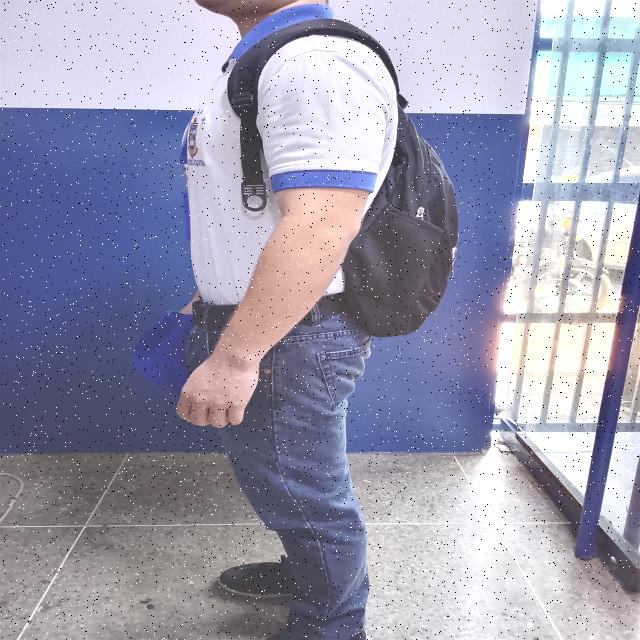pantalon_oscuro: (186, 312, 372, 640)
uniforme_superior: (179, 3, 399, 306)
